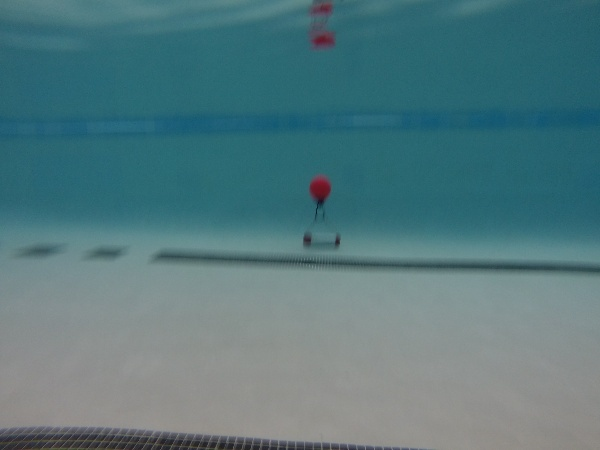buoy_red: (308, 174, 332, 208)
